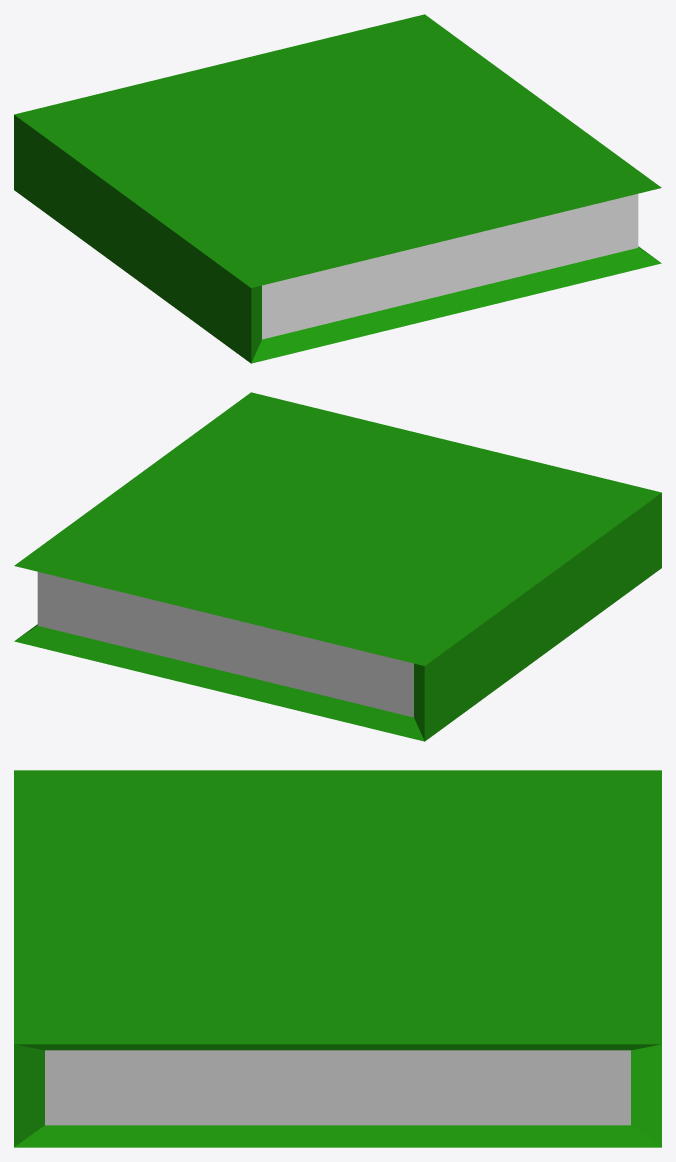
Rendered from book1.gltf.
3 renders of one model, top to bottom at view 1: azimuth 30°, elevation 25°; view 2: azimuth 150°, elevation 25°; view 3: azimuth 270°, elevation 25°, orthographic. The views are drawn at different scales.
Parts seen in each view (by area): view 1: Cube; view 2: Cube; view 3: Cube.
Part boxes in pixels (<box>): Cube: <box>14,14,661,363</box>; Cube: <box>14,392,661,741</box>; Cube: <box>14,770,661,1147</box>.
Bounding box in the file's own units: 2 × 0.3514 × 2.
Materials: 1 (1 with a texture image).
